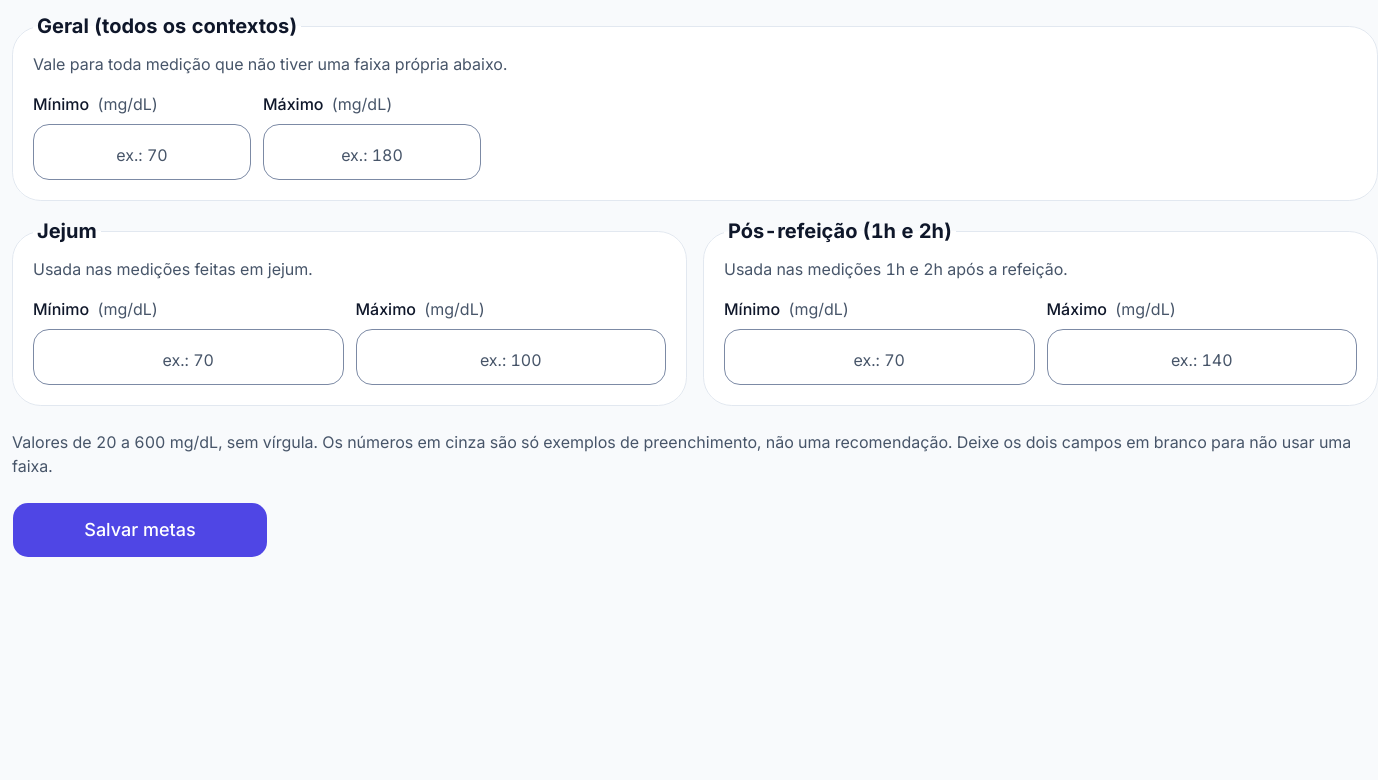
it: TargetsForm › faixa pela metade e número com vírgula são barrados com mensagem clara
The width and height of the screenshot is (1378, 780).
Type "70" into the field labelled "Mínimo (mg/dL)" below "Geral (todos os contextos)". click: (142, 152)
box: [33, 124, 251, 180]
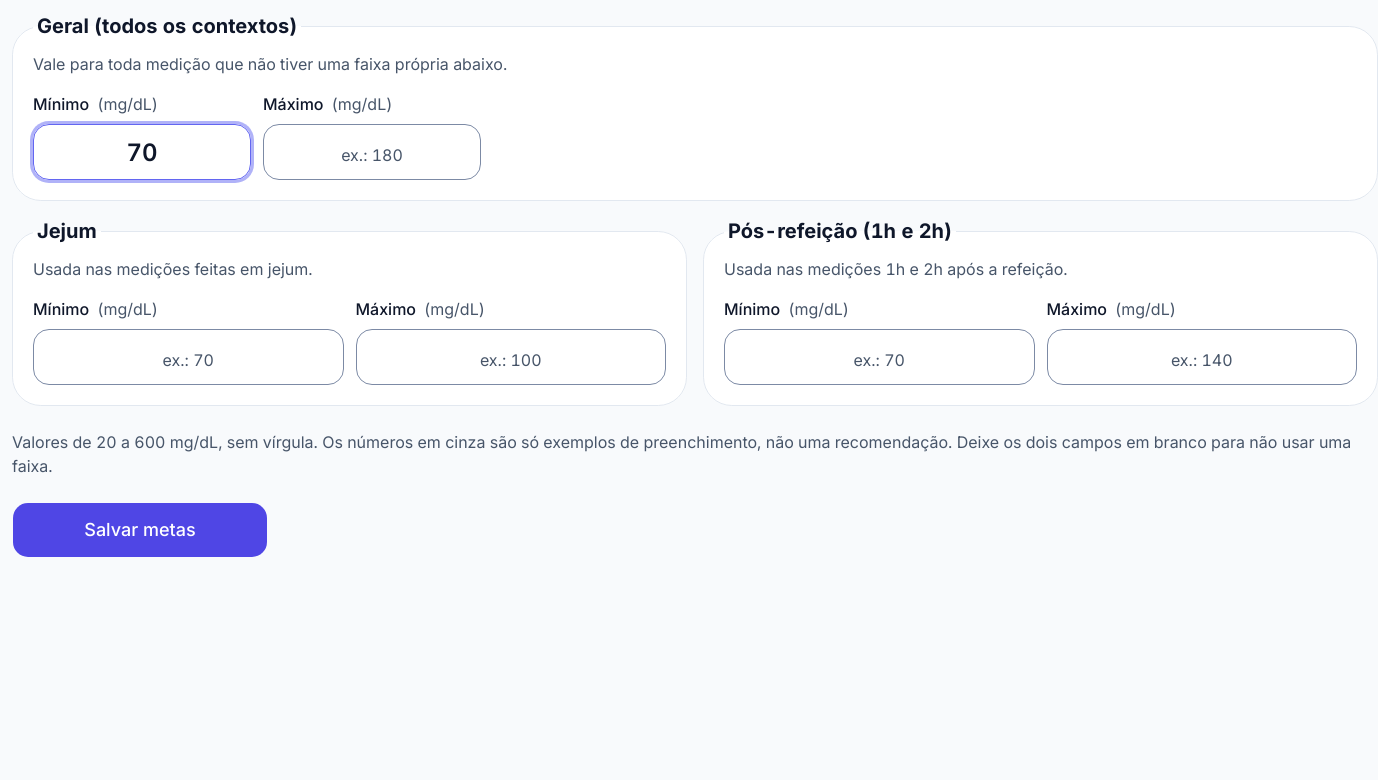
Click the button "Salvar metas". click: (140, 530)
box: [12, 502, 268, 558]
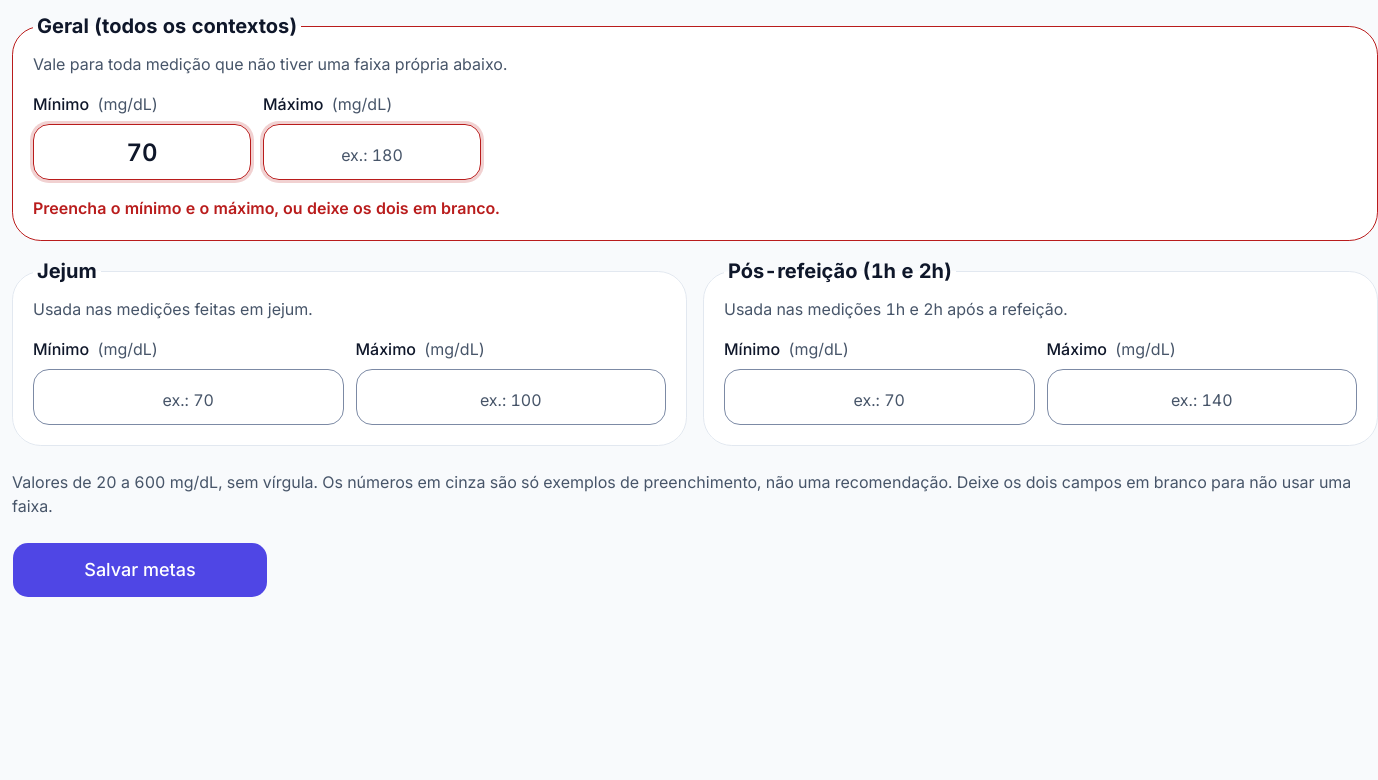
Expected: the message shows "mínimo e o máximo", [33, 198, 500, 218]
Type "1,5" into the field labelled "Máximo (mg/dL)" below "Geral (todos os contextos)". click: (372, 152)
box: [263, 124, 481, 180]
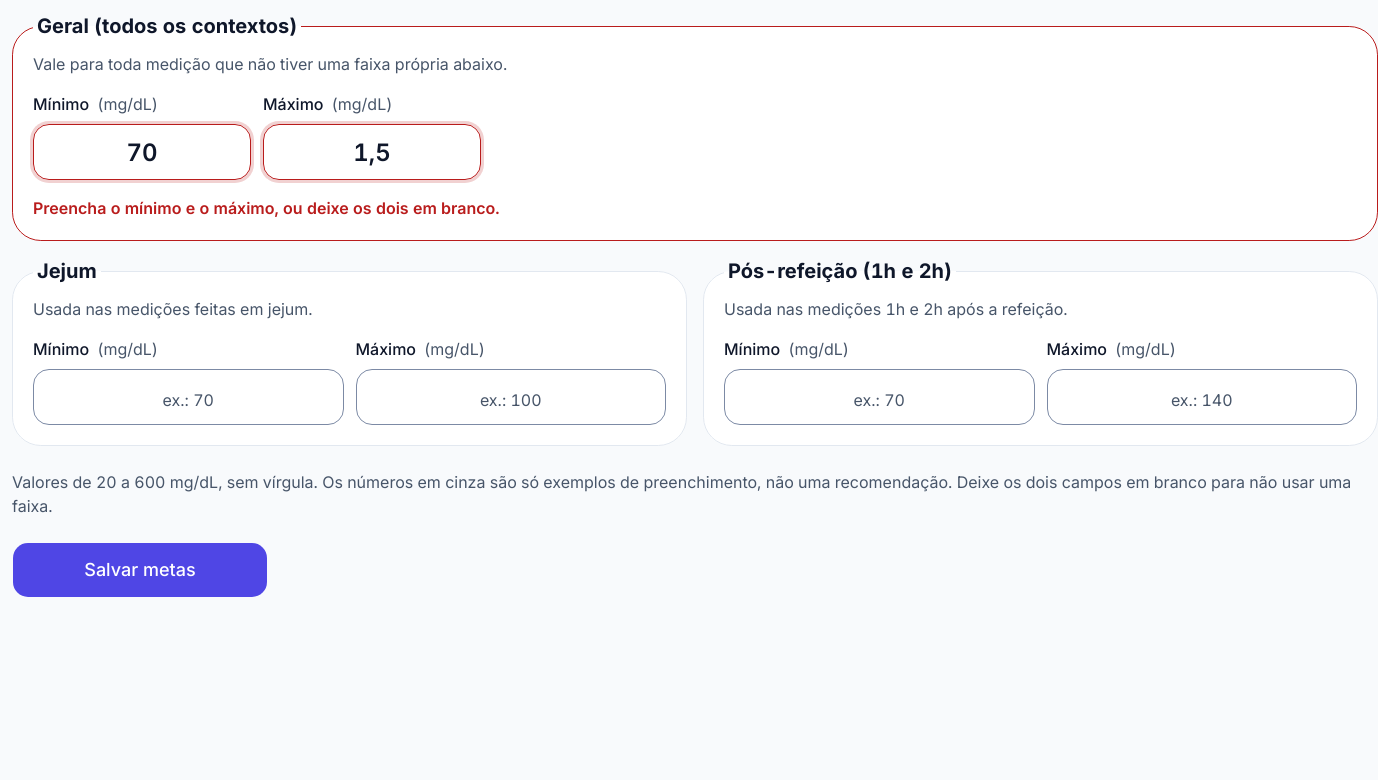
Click the button "Salvar metas". click: (140, 570)
box: [12, 542, 268, 598]
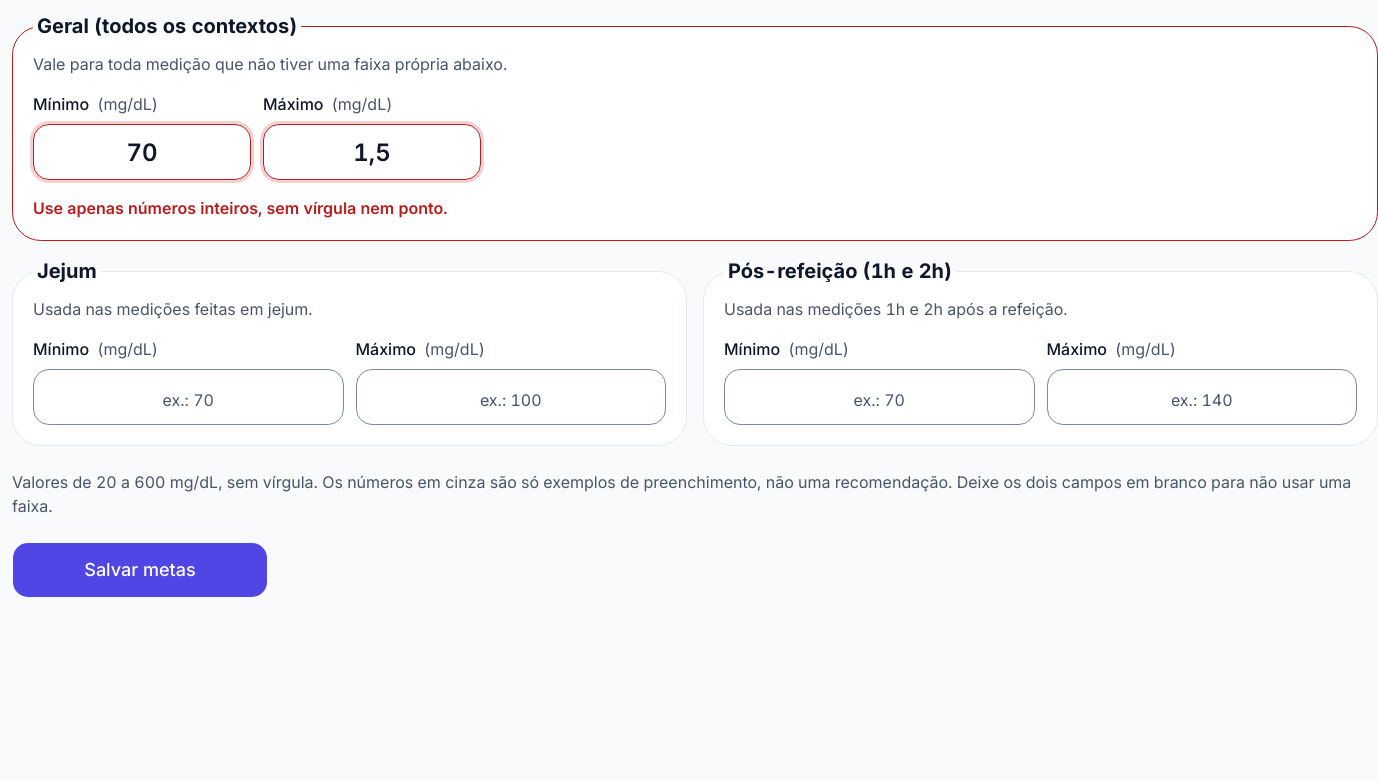
Expected: the message shows "inteiros", [33, 198, 448, 218]
